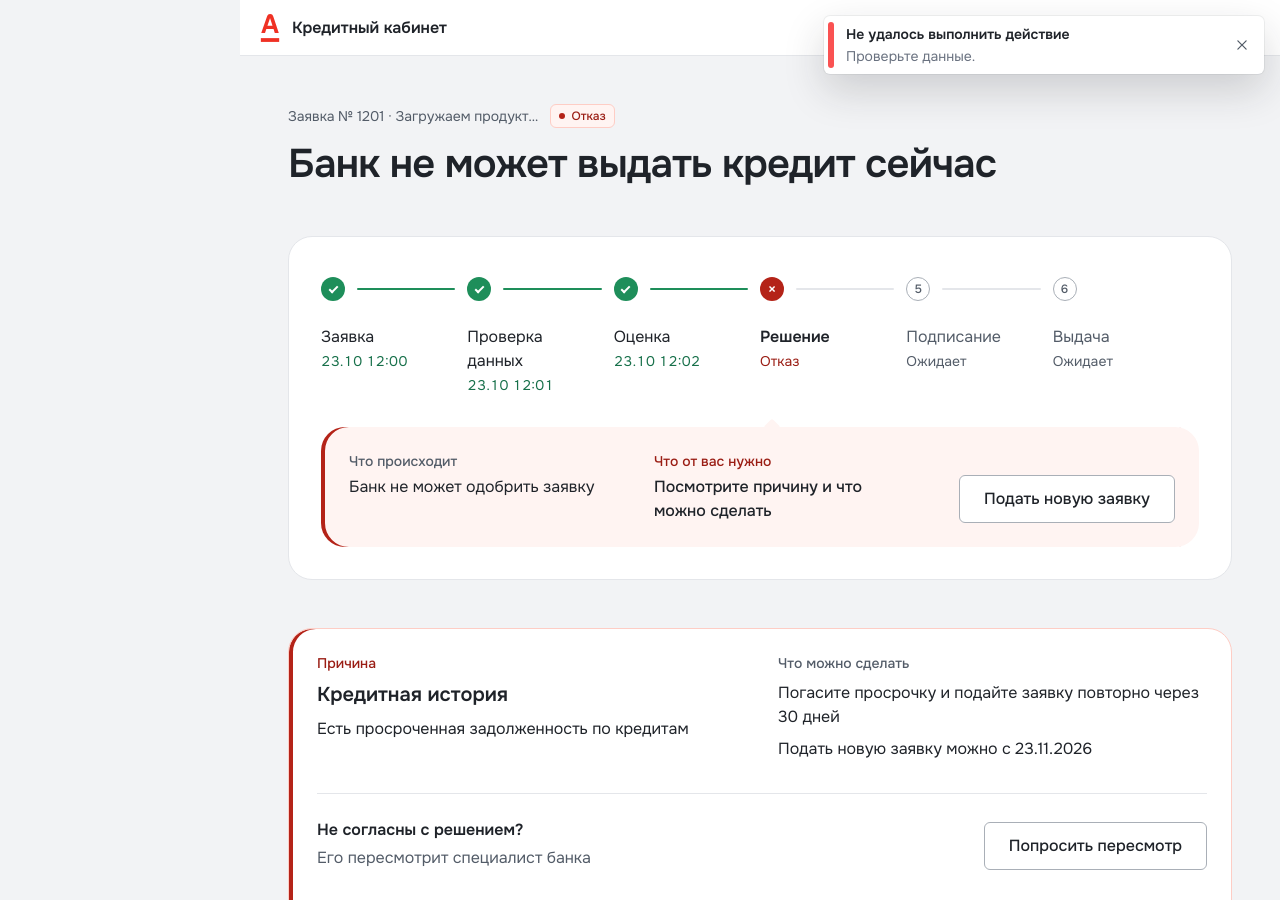
Test case: ошибка пересмотра network видна внутри диалога и сохраняет текст обращения
The width and height of the screenshot is (1280, 900).
Click the button "Попросить пересмотр" at (1095, 846), box [984,822,1207,870]
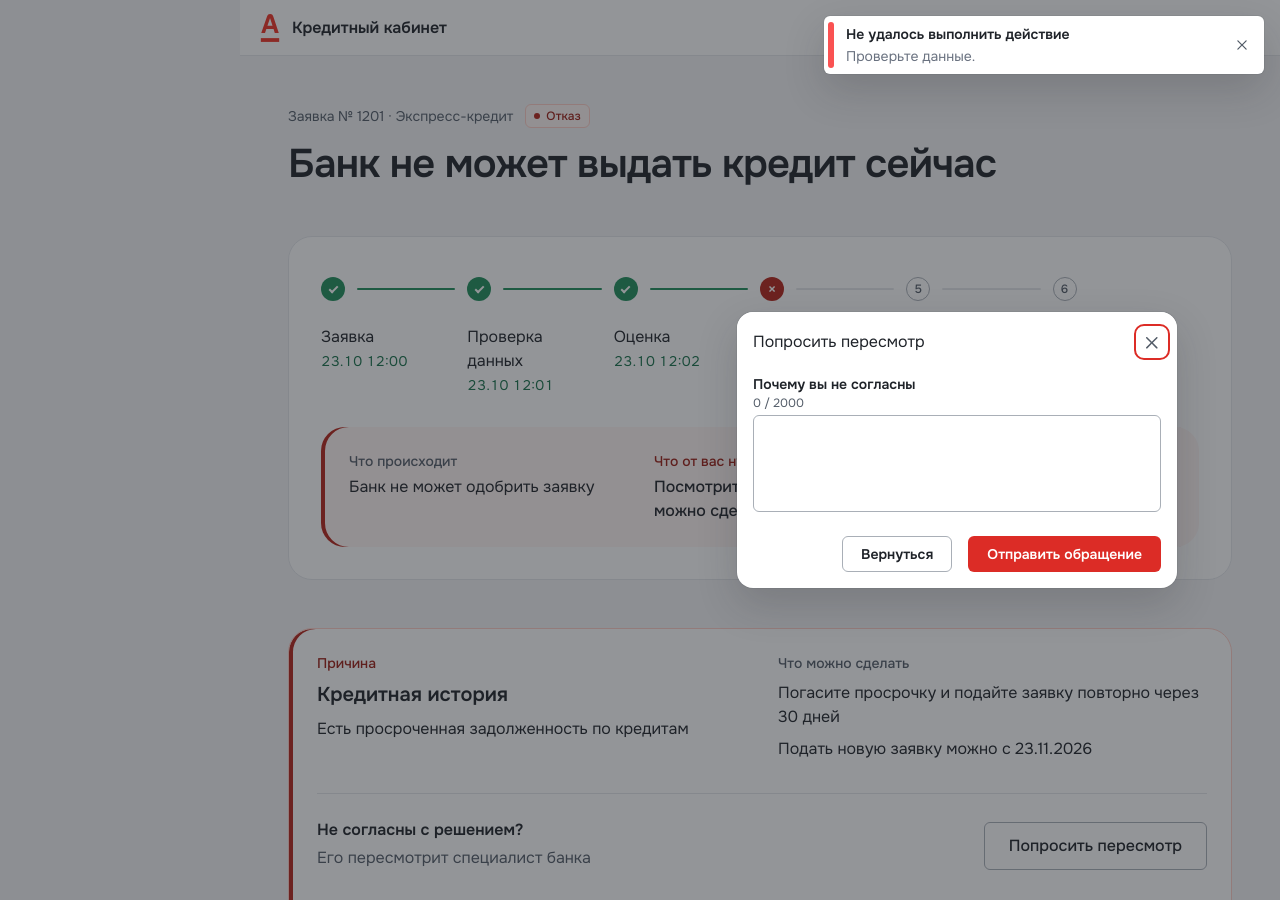
Type "Просрочка уже погашена" into the text box labelled "Почему вы не согласны" at (957, 463), box [753,415,1161,512]
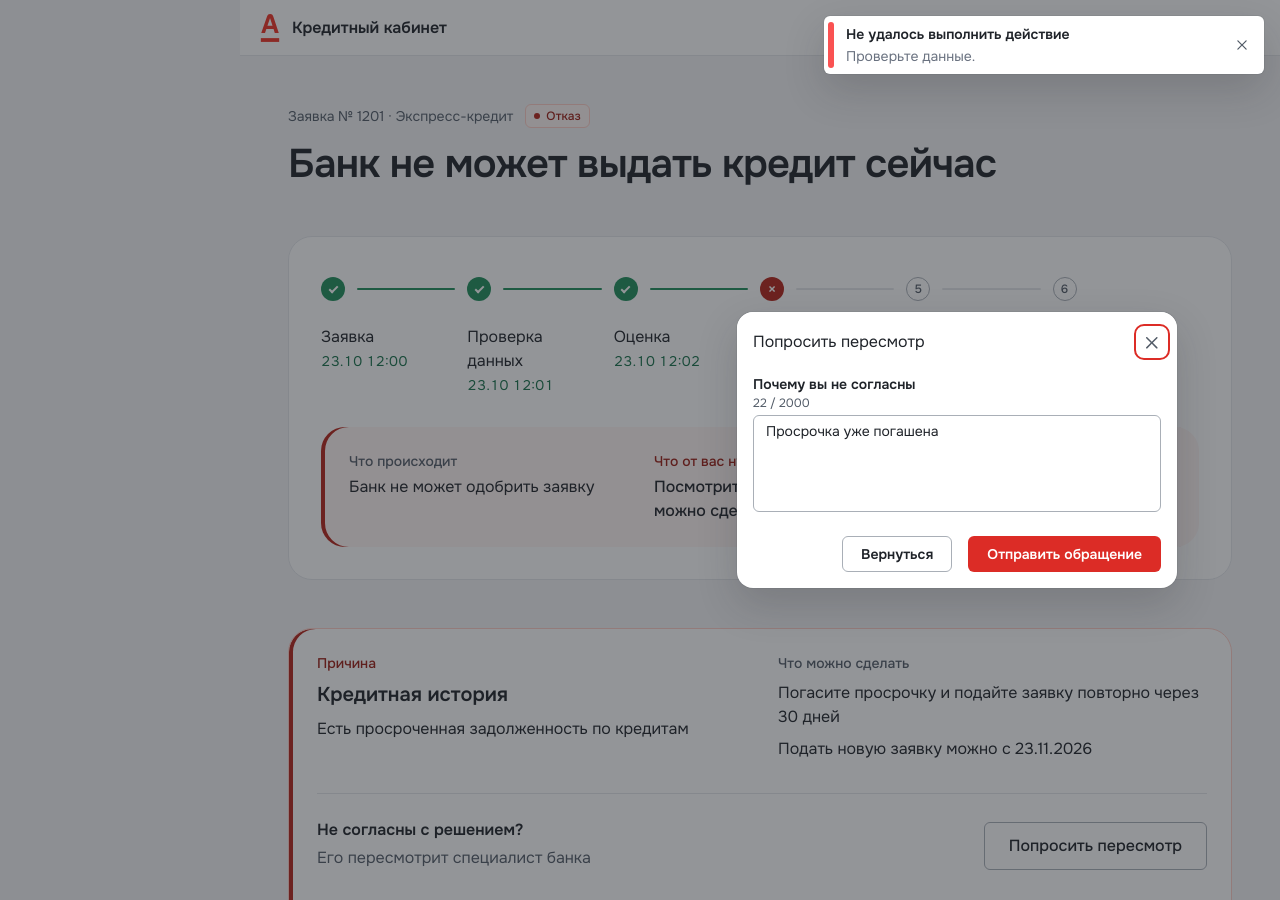
Click the button "Отправить обращение" at (1065, 554), box [968,536,1161,572]
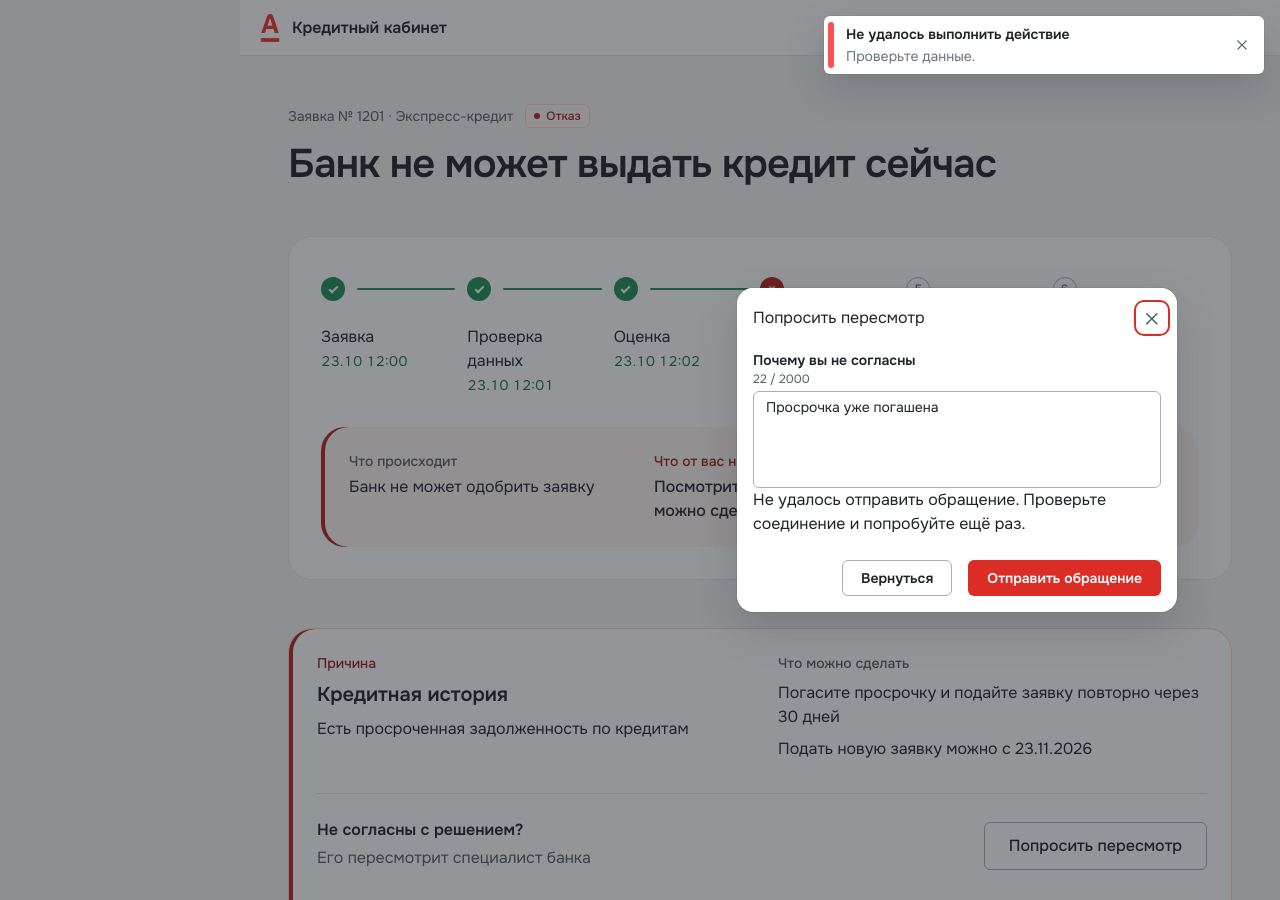
Now the text "Не удалось отправить обращение. Проверьте соединение и попробуйте ещё раз." is shown, box [753,488,1161,536]
